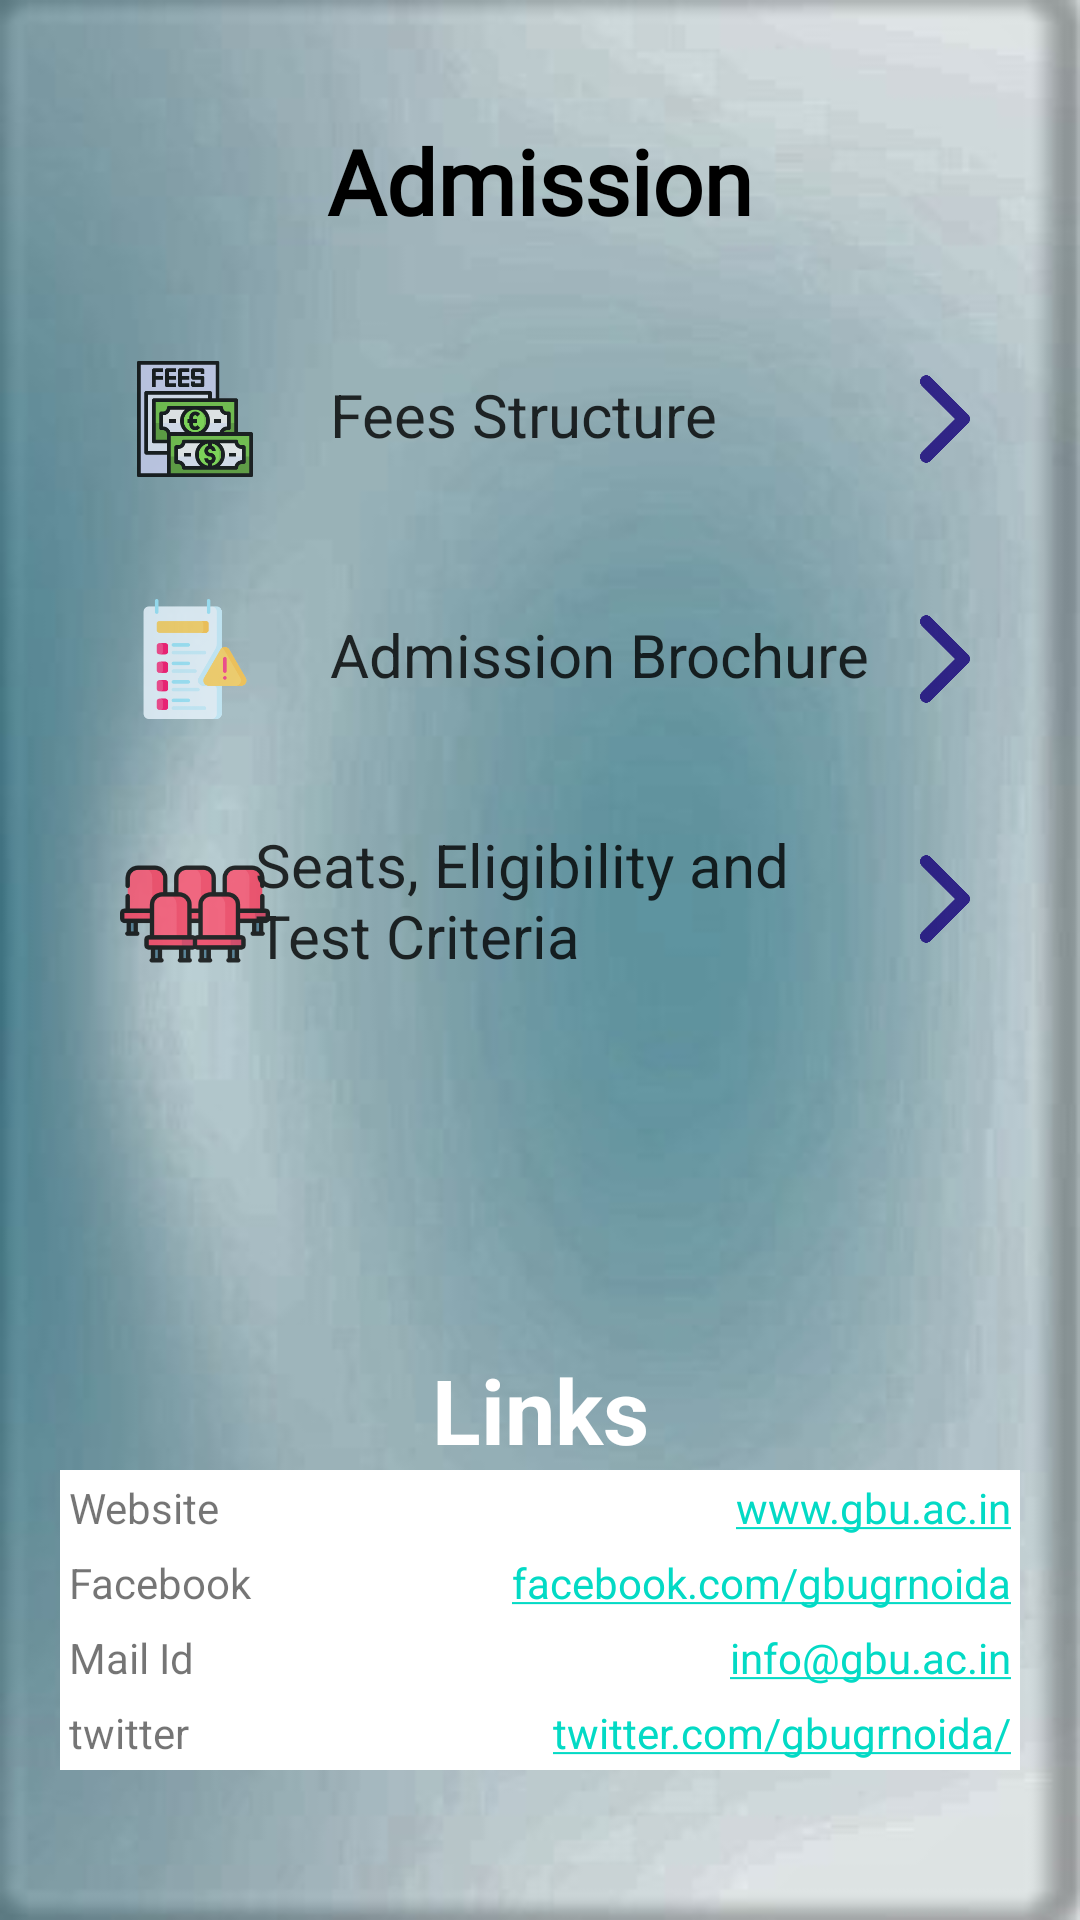

Icons on this 1080×1920 Android screen, each with the point to tap as (x=x, y=y):
agreement: (x=191, y=659)
